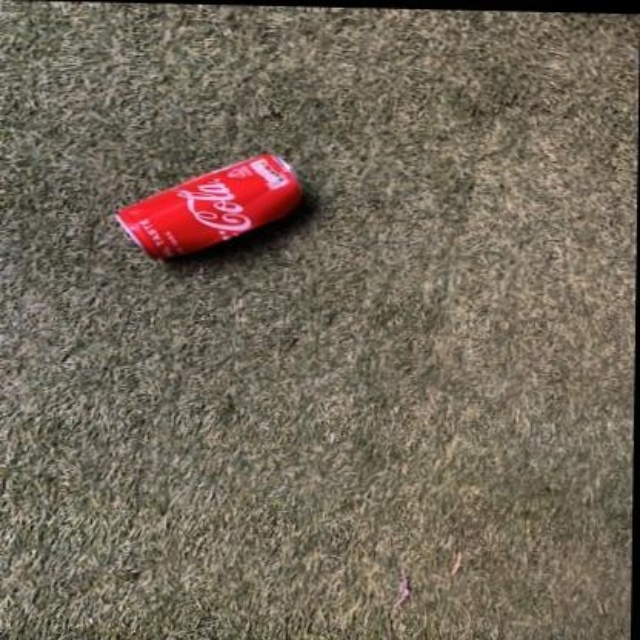trash: (115, 154, 300, 257)
